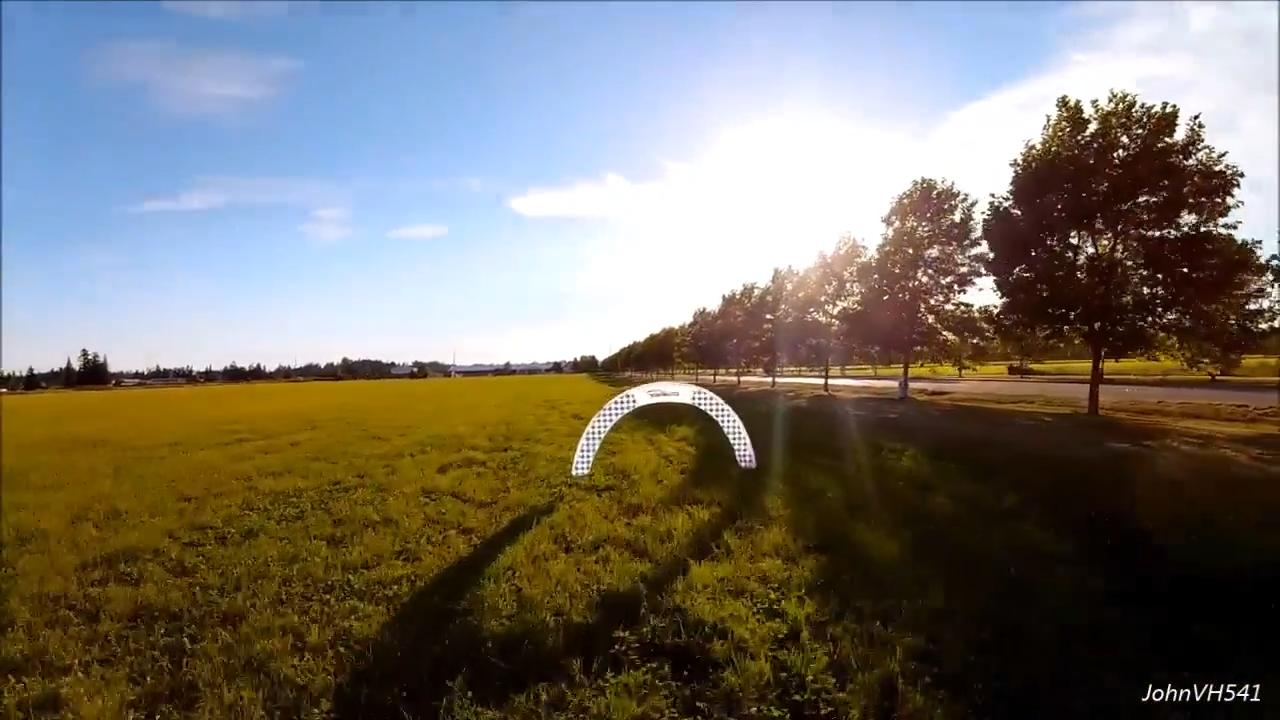gate: (570, 379, 762, 477)
